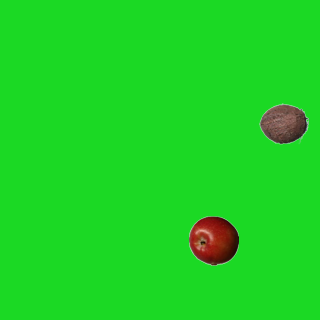Apple Braeburn: (188, 215, 238, 265)
Cocos: (258, 98, 308, 148)
